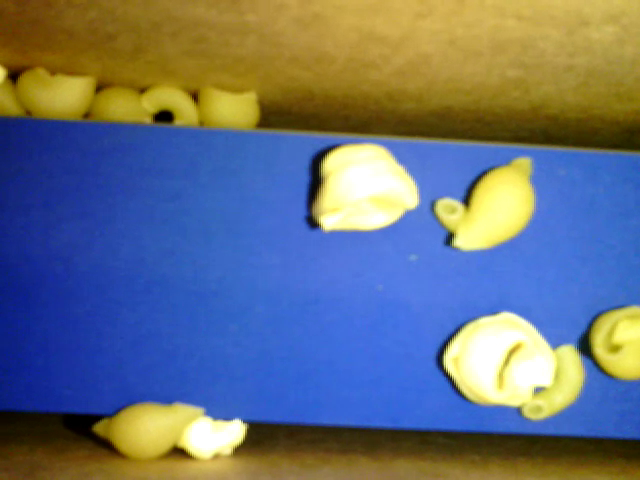elbow: (521, 344, 582, 420), (142, 81, 198, 126)
shell: (434, 153, 535, 251), (93, 402, 202, 459), (13, 65, 95, 120), (197, 86, 258, 130), (89, 84, 151, 122)
tortellini: (438, 312, 559, 405), (312, 142, 419, 233), (588, 302, 639, 377)
